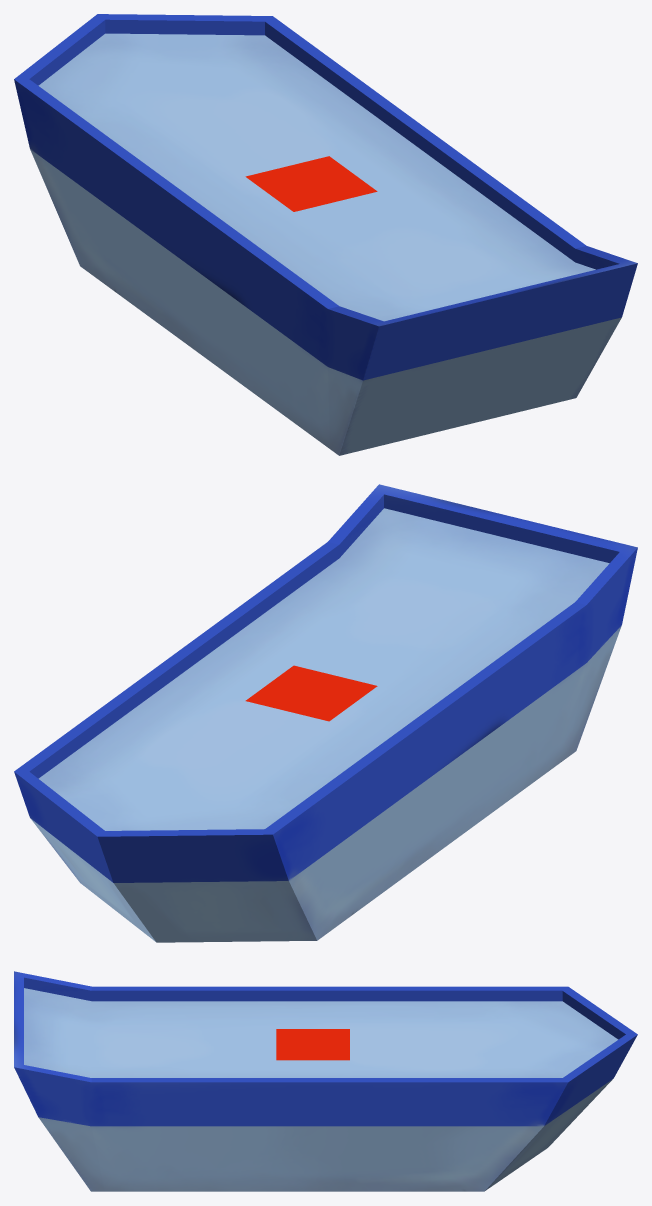
The model's file is ship.fbx.
The picture shows the model from 3 angles, top to bottom: view 1: azimuth 30°, elevation 25°; view 2: azimuth 150°, elevation 25°; view 3: azimuth 270°, elevation 25°; orthographic projection. The views are drawn at different scales.
Visible parts, largest first — view 1: Ship, Platform; view 2: Ship, Platform; view 3: Ship, Platform.
Part boxes in pixels (x1,y1,x2,y2): Ship: [14, 14, 637, 455]; Platform: [245, 156, 377, 211]; Ship: [14, 484, 637, 942]; Platform: [245, 665, 377, 721]; Ship: [14, 971, 637, 1191]; Platform: [276, 1029, 349, 1060].
Bounding box in the file's own units: 400 × 250 × 1100.
